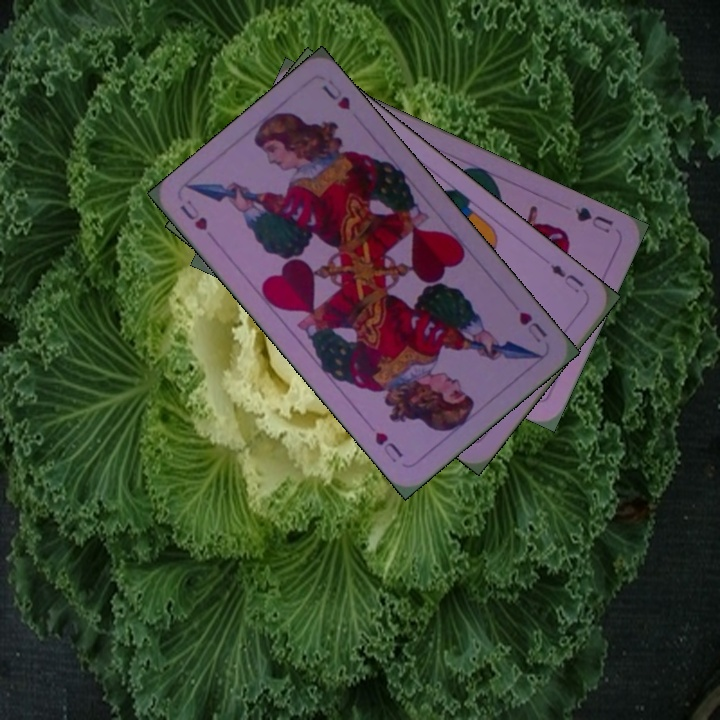EU: (546, 259, 587, 296)
GU: (570, 203, 616, 236)
HU: (514, 307, 550, 345), (176, 195, 210, 234)
